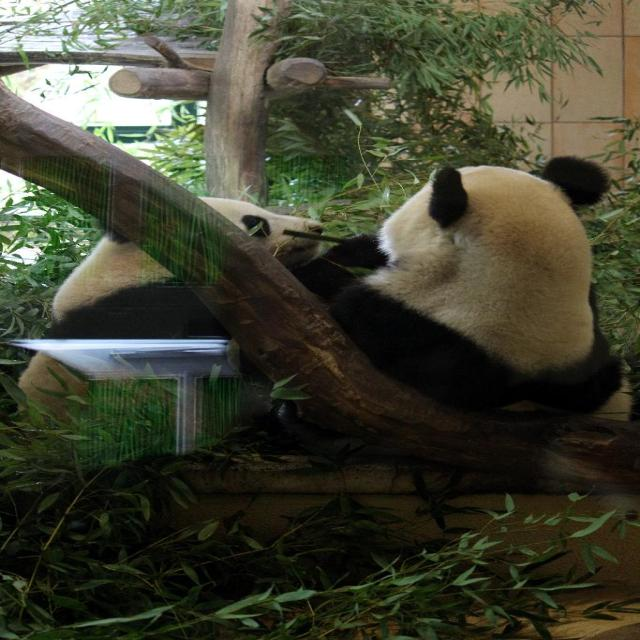panda: (11, 190, 329, 434), (330, 167, 622, 421)
